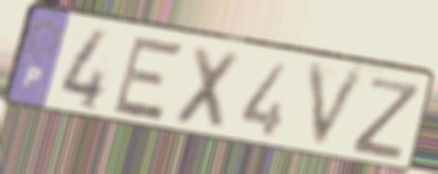4: (57, 26, 109, 115), (237, 61, 291, 139)
E: (108, 34, 187, 125)
V: (305, 60, 371, 156)
X: (169, 42, 246, 135)
Z: (347, 74, 424, 163)
